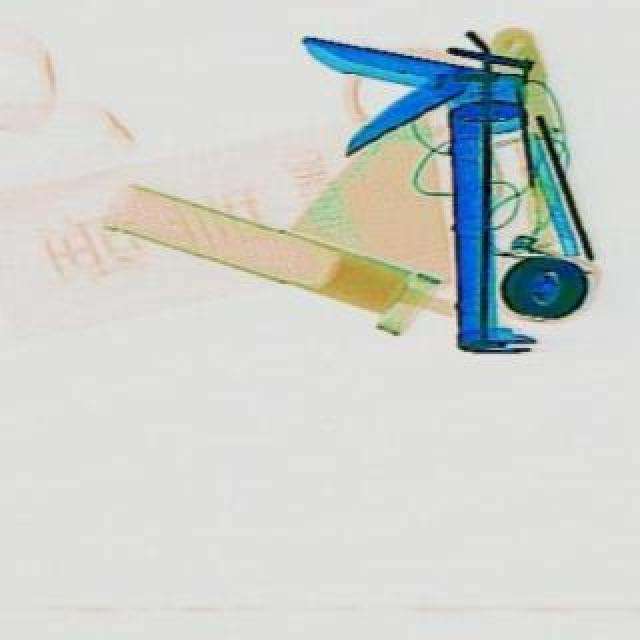knife: (296, 30, 532, 350)
